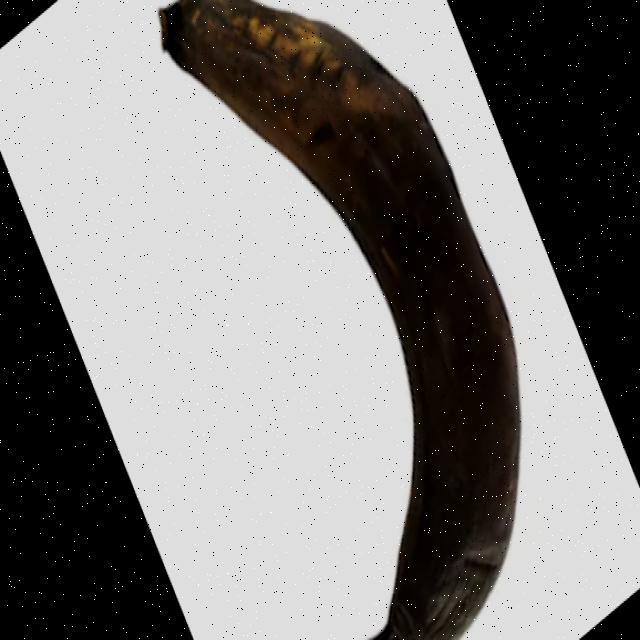Rotten: (159, 0, 522, 640)
